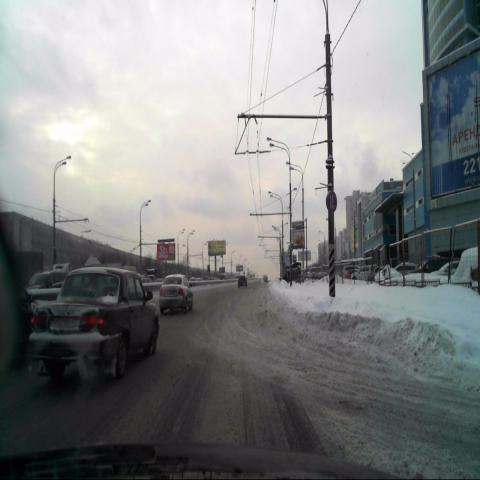3_30: (326, 192, 337, 212)
